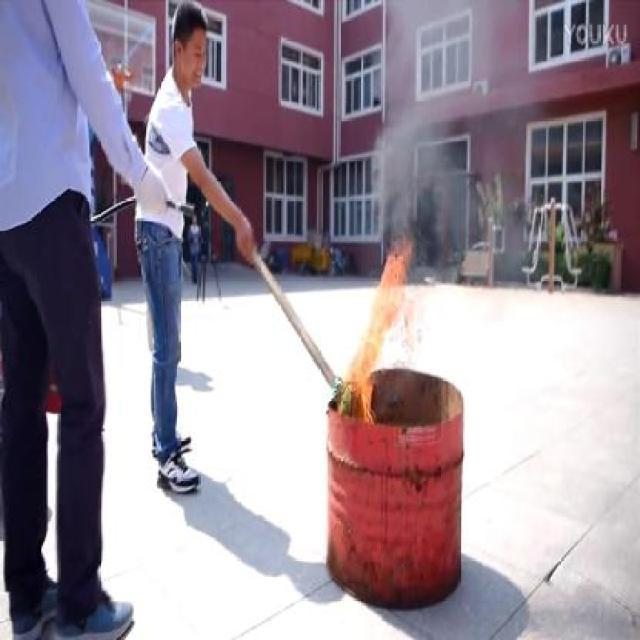Fire: (352, 234, 413, 448)
